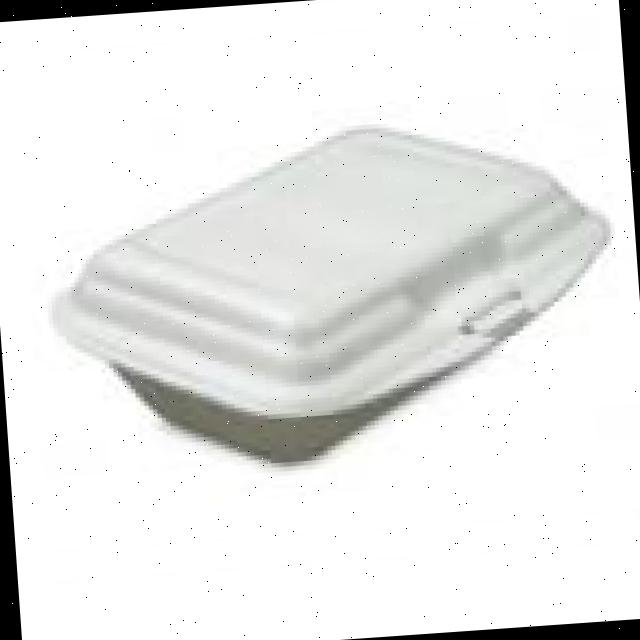styrofoam: (36, 99, 624, 478)
